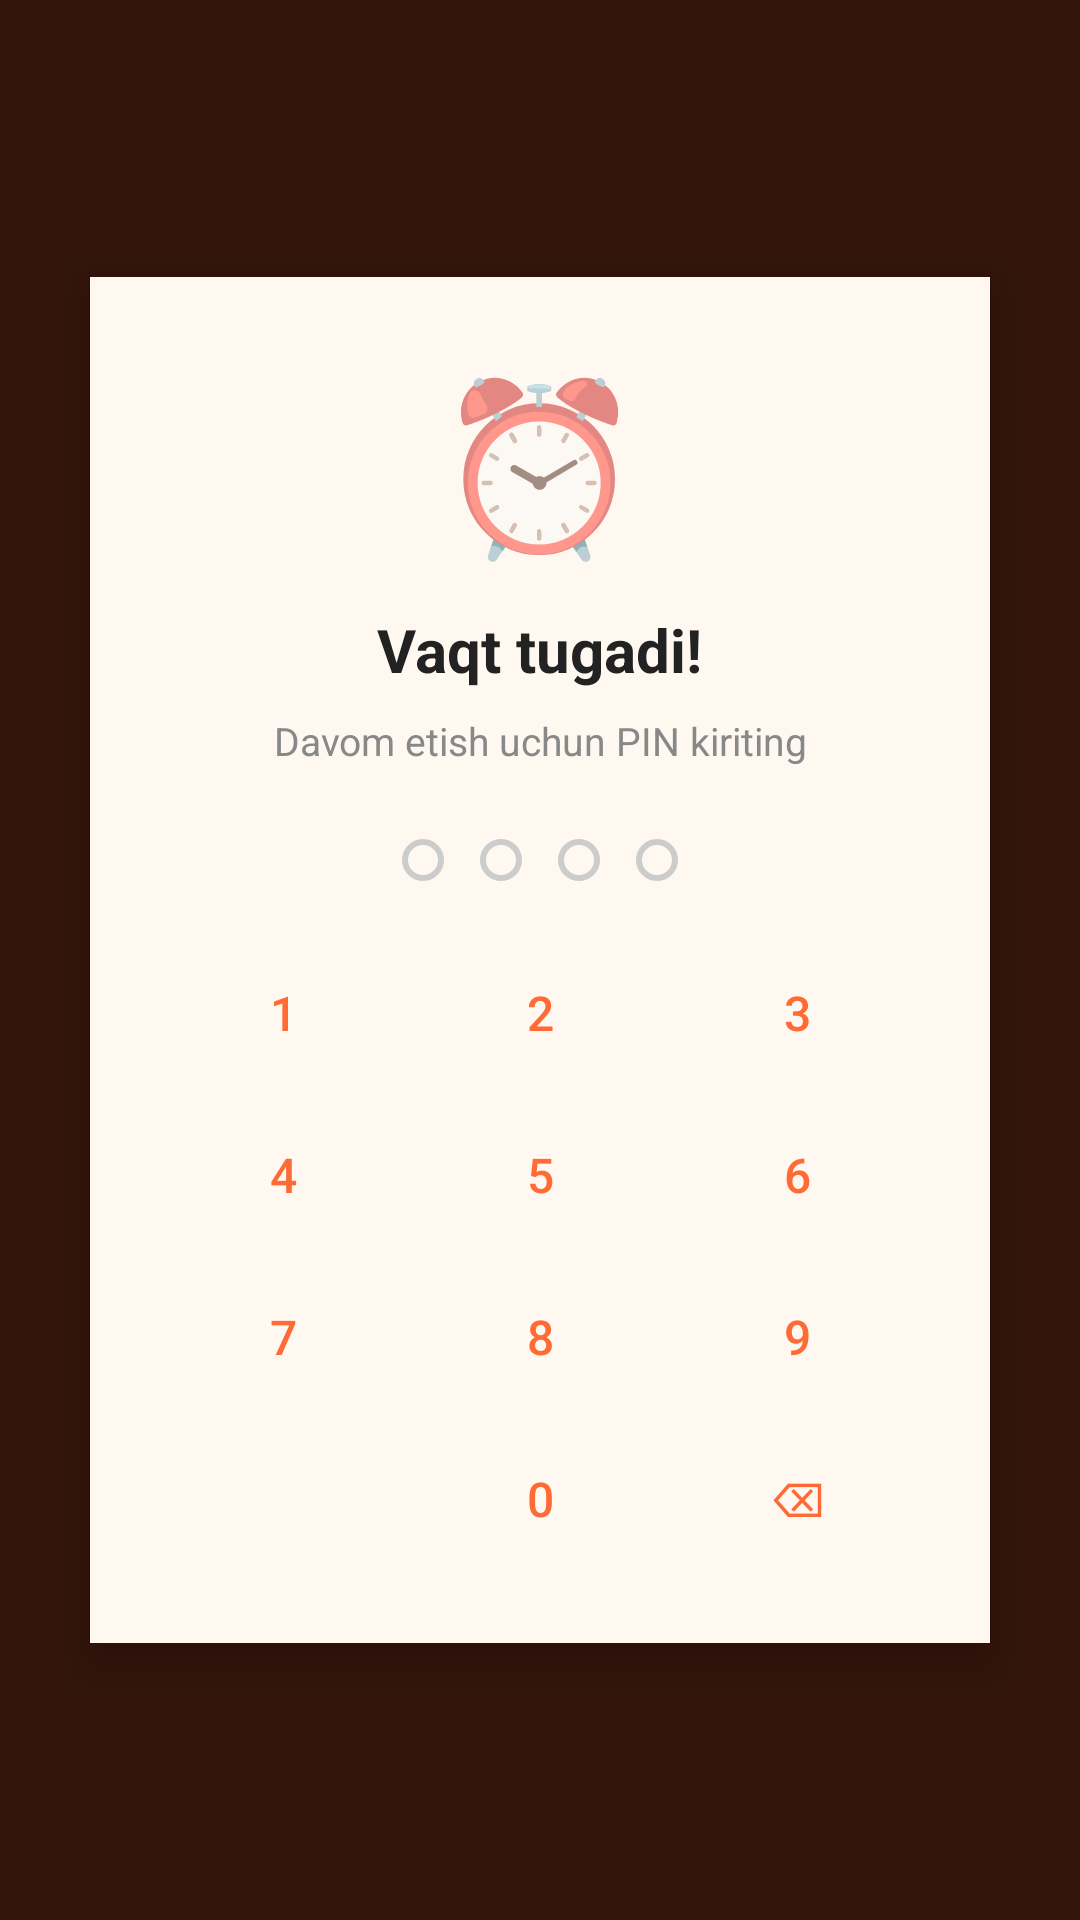

Icon click points for this 1080 x 1920 phone screenshot, format point (x, y):
pin dot empty: point (423, 860), point (501, 860), point (579, 860), point (657, 860)
